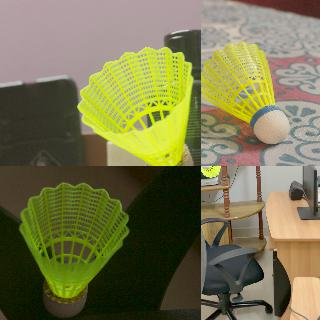shuttlecock: (20, 182, 128, 316), (77, 46, 194, 165), (201, 41, 289, 145), (201, 166, 221, 178)
